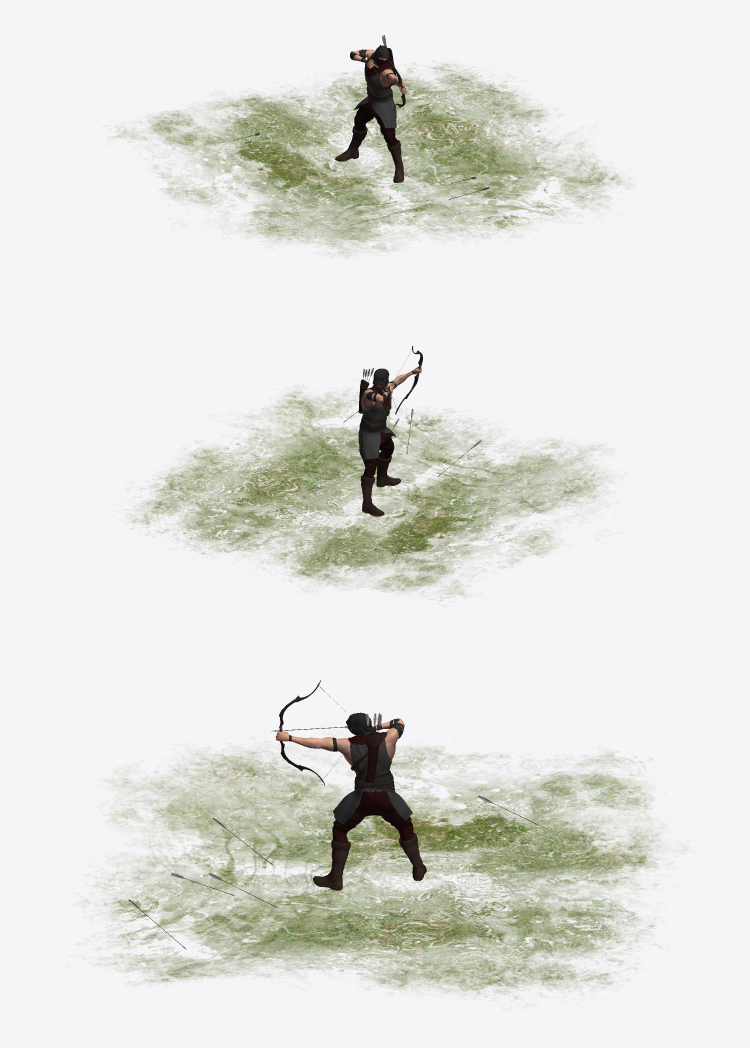
3 views of the same model, one above another, from view 1: azimuth 30°, elevation 25°; view 2: azimuth 150°, elevation 25°; view 3: azimuth 270°, elevation 25° (orthographic). The views are drawn at different scales.
Visible parts, largest first — view 1: pPlane1, CF_Shoes_low, cl_3_low, CF_Pants_low, CFbody_low; view 2: pPlane1, cl_3_low, CF_Shoes_low, CF_Pants_low, CFbody_low; view 3: pPlane1, cl_3_low, CF_Pants_low, CF_Shoes_low, CFbody_low, Cloth_Pieces_low.
Part boxes in pixels (<box>): pPlane1: <box>115,64,627,256</box>; CF_Shoes_low: <box>335,125,403,182</box>; cl_3_low: <box>354,60,396,128</box>; CF_Pants_low: <box>354,100,398,146</box>; CFbody_low: <box>352,49,406,94</box>; pPlane1: <box>129,390,612,600</box>; cl_3_low: <box>358,393,395,459</box>; CF_Shoes_low: <box>360,452,400,516</box>; CF_Pants_low: <box>363,431,394,477</box>; CFbody_low: <box>361,367,421,410</box>; pPlane1: <box>77,747,685,998</box>; cl_3_low: <box>333,739,412,824</box>; CF_Pants_low: <box>332,790,414,842</box>; CF_Shoes_low: <box>313,832,426,890</box>; CFbody_low: <box>275,719,404,766</box>; Cloth_Pieces_low: <box>289,718,403,787</box>.
Bounding box in the file's own units: 6.71 × 1.96 × 6.65.
Materials: 7 (7 with a texture image).
